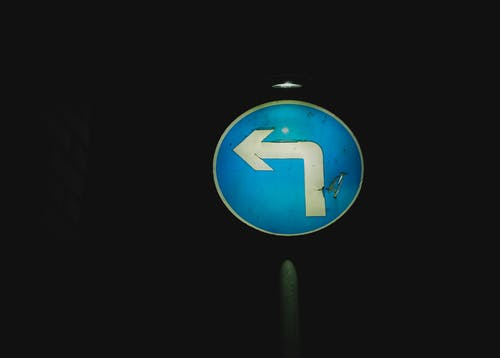left turn: (212, 99, 365, 235)
